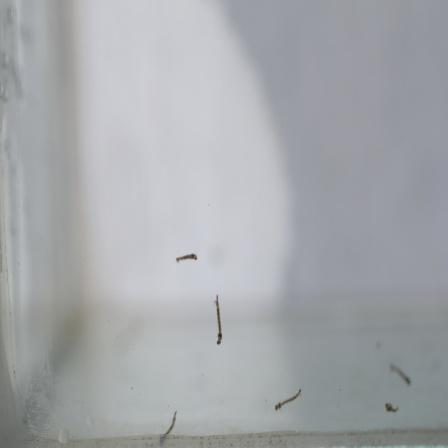Jentik-Nyamuk: (274, 387, 305, 413), (213, 296, 228, 349), (172, 248, 204, 267)
